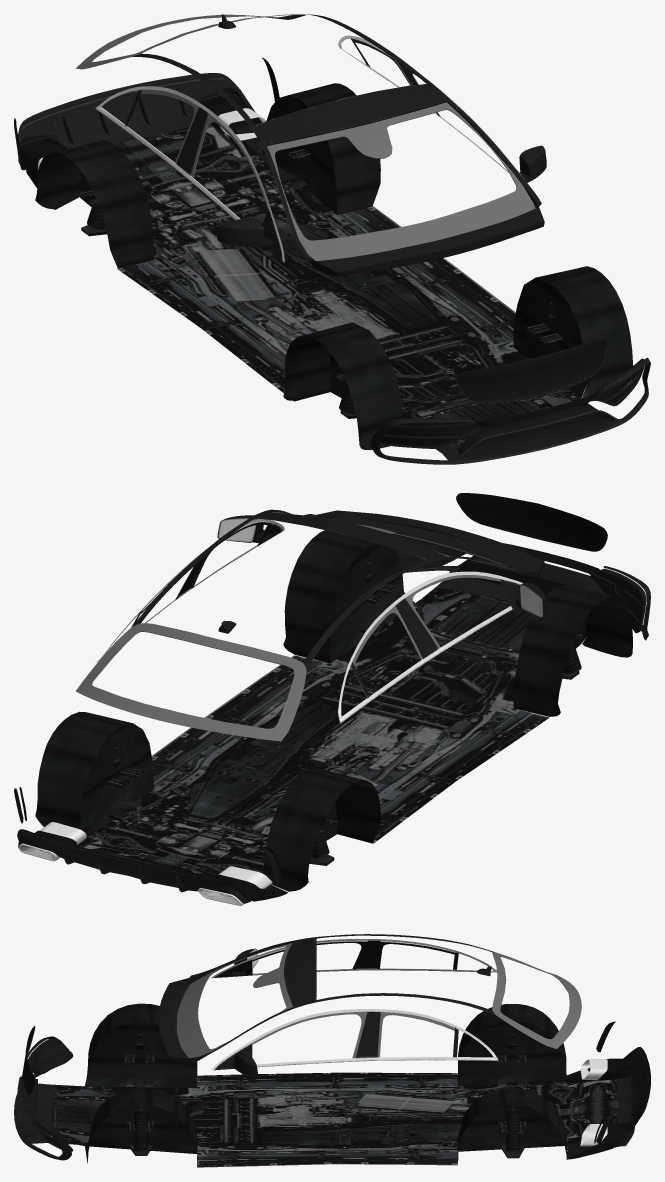
File: Body_LOD0.obj
The picture shows the model from 3 angles, top to bottom: view 1: azimuth 30°, elevation 25°; view 2: azimuth 150°, elevation 25°; view 3: azimuth 270°, elevation 25°; orthographic projection. The views are drawn at different scales.
Visible parts, largest first — view 1: Body_LOD0_3, Body_LOD0_0, Body_LOD0_1; view 2: Body_LOD0_3, Body_LOD0_0, Body_LOD0_1; view 3: Body_LOD0_3, Body_LOD0_0, Body_LOD0_1, Body_LOD0_2.
Part boxes in pixels (x1,y1,x2,y2): Body_LOD0_3: (20,83,632,449); Body_LOD0_0: (14,14,650,464); Body_LOD0_1: (76,14,535,261); Body_LOD0_3: (19,530,632,901); Body_LOD0_0: (14,493,650,905); Body_LOD0_1: (75,512,515,741); Body_LOD0_3: (52,1003,634,1167); Body_LOD0_0: (14,934,650,1160); Body_LOD0_1: (176,941,581,1058); Body_LOD0_2: (252,941,454,969).
Size of the model in its own units: 2.02 by 1.26 by 4.63.
4 materials, 4 textured.
